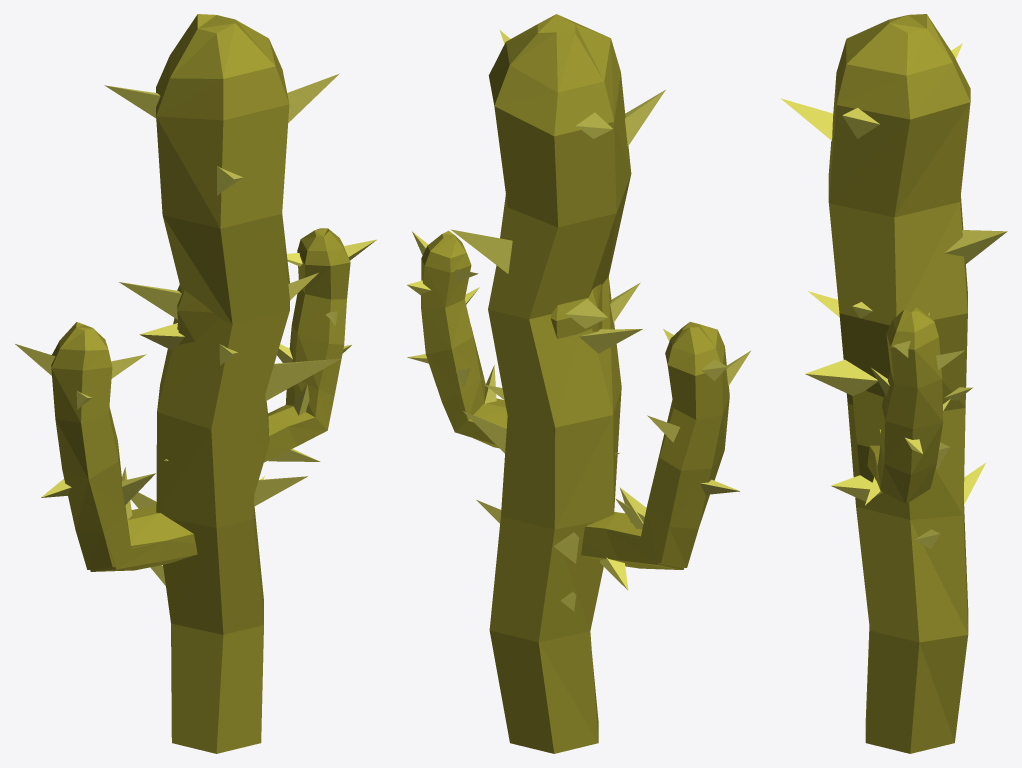
File: Cactus.FBX
3 views of the same model, side by side, from view 1: azimuth 30°, elevation 25°; view 2: azimuth 150°, elevation 25°; view 3: azimuth 270°, elevation 25° (orthographic).
Parts seen in each view (by area): view 1: Cactus_Big, Cactus_OneArm, Cactus_ArmTwo; view 2: Cactus_Big, Cactus_OneArm, Cactus_ArmTwo; view 3: Cactus_Big, Cactus_ArmTwo, Cactus_OneArm.
Part boxes in pixels (box(x1,y1,x2,y2)): Cactus_Big: box(104, 14, 341, 753); Cactus_OneArm: box(15, 272, 318, 585); Cactus_ArmTwo: box(75, 228, 376, 569); Cactus_Big: box(450, 14, 665, 753); Cactus_OneArm: box(476, 282, 750, 611); Cactus_ArmTwo: box(407, 230, 698, 567); Cactus_Big: box(780, 14, 1007, 753); Cactus_ArmTwo: box(865, 307, 964, 505); Cactus_OneArm: box(808, 291, 972, 548).
Size of the model in its own units: 2.5 by 5.01 by 1.45.
Materials: 1 (1 with a texture image).
